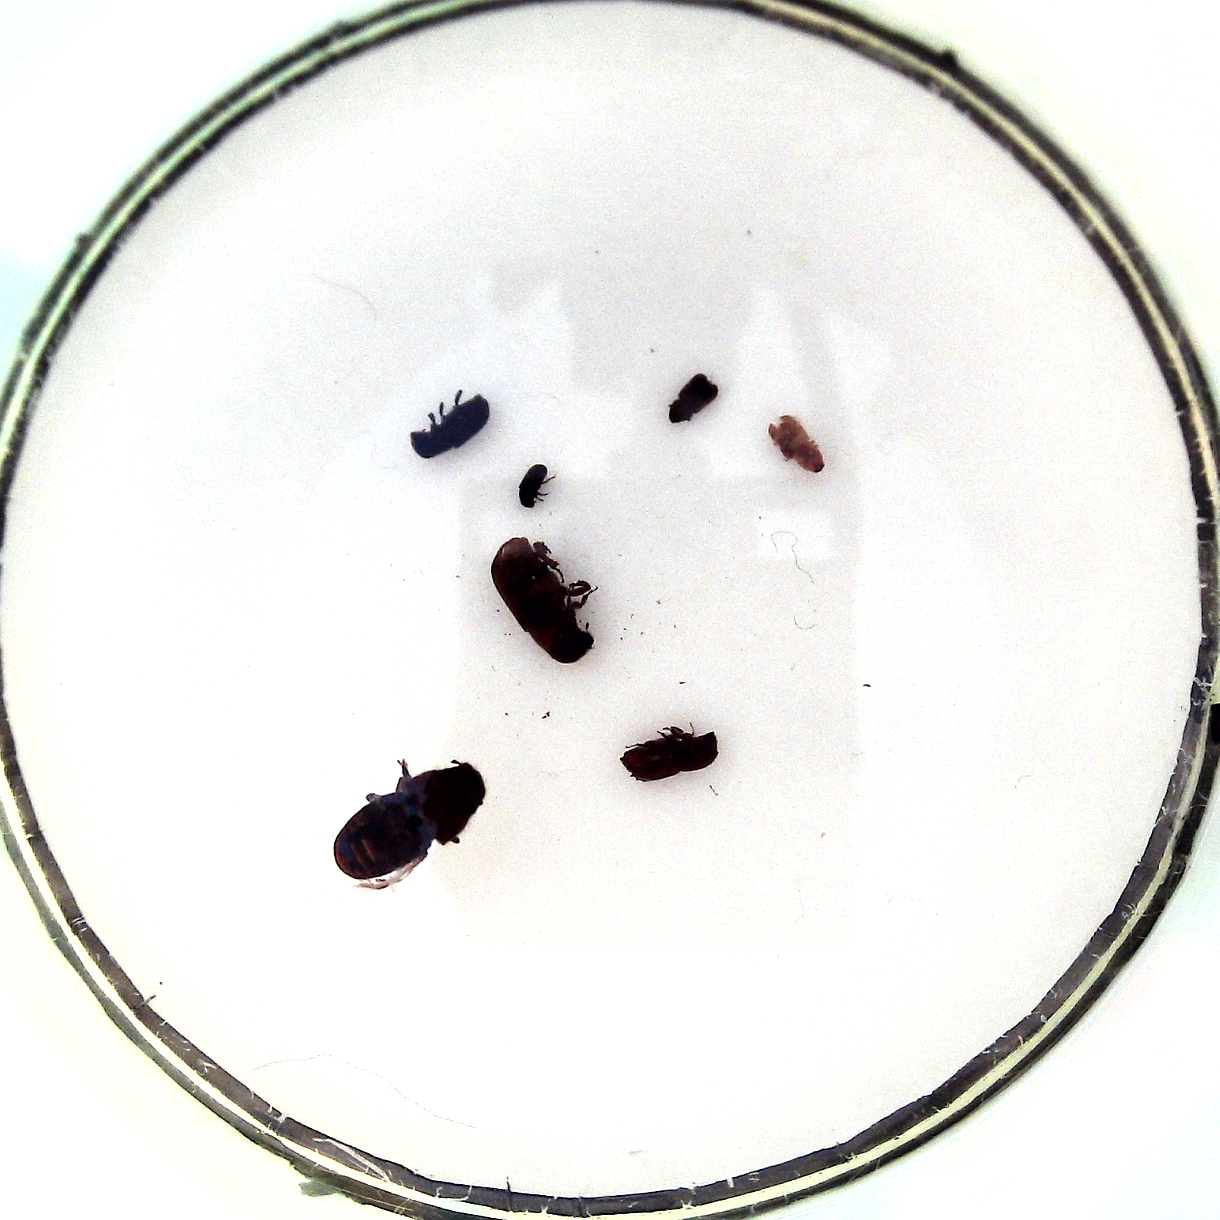Leconte: (334, 762, 486, 879), (490, 537, 595, 664)
acuminatus: (518, 464, 547, 508)
armandi: (410, 394, 490, 460)
coleoptera: (768, 414, 825, 473), (669, 373, 718, 425)
linnaeus: (620, 730, 719, 783)
